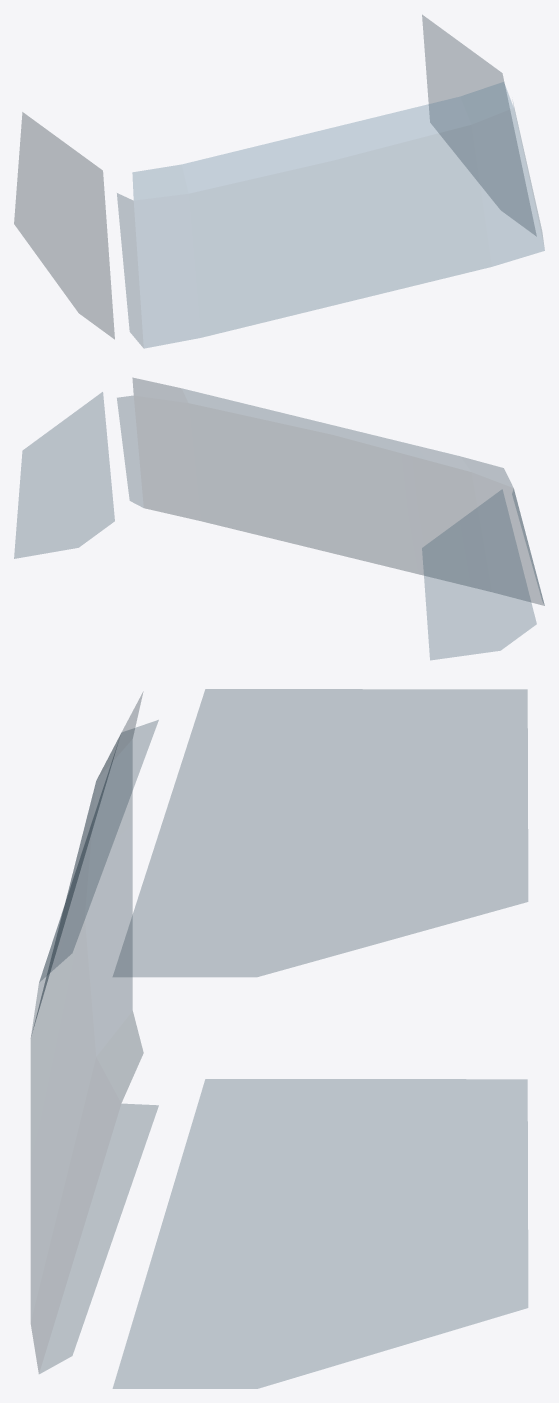
File: SM_Veh_Truck_Glass.obj
3 views of the same model, one above another, from view 1: azimuth 30°, elevation 25°; view 2: azimuth 150°, elevation 25°; view 3: azimuth 270°, elevation 25° (orthographic). The views are drawn at different scales.
Visible parts, largest first — view 1: SM_Veh_Truck_Glass_0; view 2: SM_Veh_Truck_Glass_0; view 3: SM_Veh_Truck_Glass_0.
Part boxes in pixels (x1=…): SM_Veh_Truck_Glass_0: x1=14, y1=15, x2=544, y2=348; SM_Veh_Truck_Glass_0: x1=14, y1=378, x2=544, y2=659; SM_Veh_Truck_Glass_0: x1=30, y1=689, x2=527, y2=1388.
Size of the model in its own units: 2.03 by 0.7144 by 1.04.
